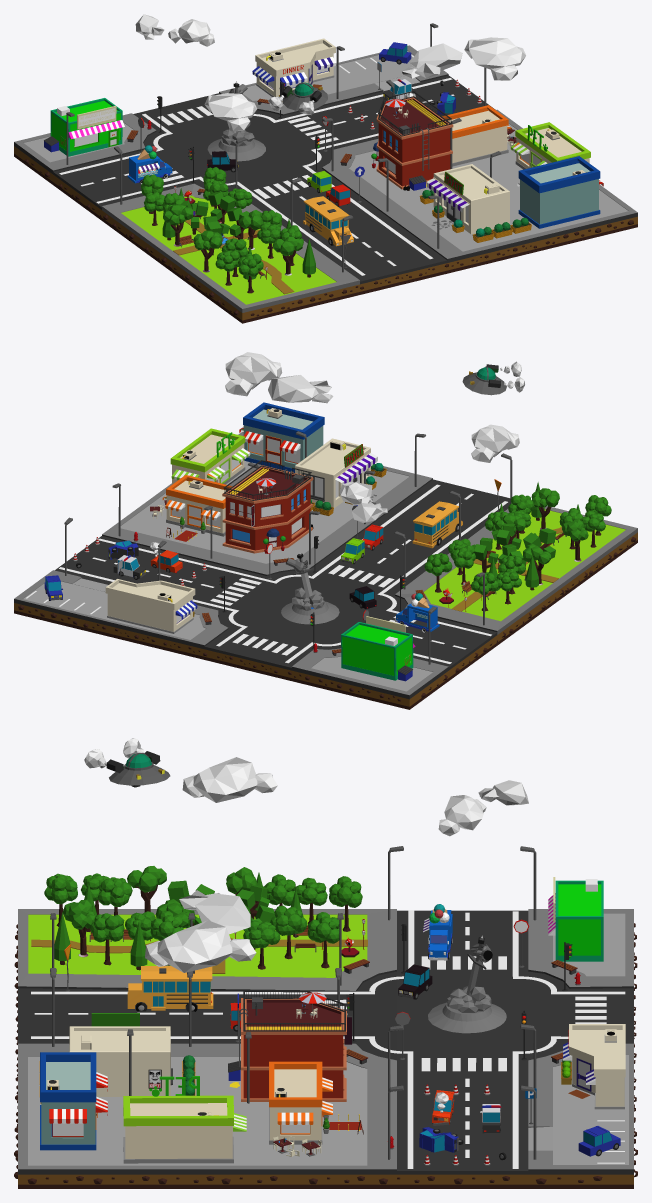
Rendered from Lowpoly_City_in_the_night.glb.
3 renders of one model, top to bottom at view 1: azimuth 30°, elevation 25°; view 2: azimuth 150°, elevation 25°; view 3: azimuth 270°, elevation 25°, orthographic. The views are drawn at different scales.
Visible parts, largest first — view 1: TERRAIN_Multicolor_0, Plane.011_Multicolor_0, Cube_Multicolor_0, Cube.019_Multicolor_0, Cube.034_Multicolor_0, Plane.010_Multicolor_0, Cube.024_Comitexture_0, Plane.008_Multicolor_0, Plane.012_Multicolor_0, Icosphere.014_Multicolor.013_0, Cube.012_Multicolor_0, Icosphere.015_Multicolor.013_0 (+17 smaller); view 2: TERRAIN_Multicolor_0, Cube_Multicolor_0, Cube.034_Multicolor_0, Plane.011_Multicolor_0, Cube.024_Comitexture_0, Cube.019_Multicolor_0, Plane.012_Multicolor_0, Plane.010_Multicolor_0, Plane.008_Multicolor_0, Cylinder.009_Multicolor_0, Icosphere.014_Multicolor.013_0, Cube.012_Multicolor_0 (+15 smaller); view 3: TERRAIN_Multicolor_0, Plane.012_Multicolor_0, Cube_Multicolor_0, Cube.019_Multicolor_0, Plane.011_Multicolor_0, Plane.010_Multicolor_0, Plane.008_Multicolor_0, Cube.034_Multicolor_0, Cube.024_Comitexture_0, Icosphere.014_Multicolor.013_0, Cylinder.009_Multicolor_0, Cube.012_Multicolor_0 (+23 smaller).
Part boxes in pixels (x1=…): TERRAIN_Multicolor_0: x1=14, y1=45, x2=637, y2=323; Plane.011_Multicolor_0: x1=517, y1=156, x2=603, y2=228; Cube_Multicolor_0: x1=376, y1=97, x2=453, y2=189; Cube.019_Multicolor_0: x1=426, y1=164, x2=509, y2=234; Cube.034_Multicolor_0: x1=252, y1=38, x2=336, y2=101; Plane.010_Multicolor_0: x1=442, y1=105, x2=511, y2=166; Cube.024_Comitexture_0: x1=50, y1=98, x2=122, y2=156; Plane.008_Multicolor_0: x1=59, y1=78, x2=452, y2=275; Plane.012_Multicolor_0: x1=511, y1=122, x2=590, y2=169; Icosphere.014_Multicolor.013_0: x1=464, y1=37, x2=525, y2=80; Cube.012_Multicolor_0: x1=303, y1=196, x2=353, y2=246; Icosphere.015_Multicolor.013_0: x1=204, y1=93, x2=256, y2=130; TERRAIN_Multicolor_0: x1=14, y1=431, x2=637, y2=709; Cube_Multicolor_0: x1=222, y1=465, x2=313, y2=553; Cube.034_Multicolor_0: x1=105, y1=579, x2=197, y2=633; Plane.011_Multicolor_0: x1=239, y1=402, x2=324, y2=472; Cube.024_Comitexture_0: x1=341, y1=616, x2=413, y2=680; Cube.019_Multicolor_0: x1=295, y1=438, x2=377, y2=508; Plane.012_Multicolor_0: x1=170, y1=428, x2=250, y2=484; Plane.010_Multicolor_0: x1=162, y1=475, x2=232, y2=541; Plane.008_Multicolor_0: x1=59, y1=484, x2=507, y2=663; Cylinder.009_Multicolor_0: x1=281, y1=553, x2=339, y2=624; Icosphere.014_Multicolor.013_0: x1=225, y1=352, x2=282, y2=396; Cube.012_Multicolor_0: x1=412, y1=501, x2=462, y2=548; TERRAIN_Multicolor_0: x1=14, y1=909, x2=637, y2=1188; Plane.012_Multicolor_0: x1=123, y1=1076, x2=246, y2=1163; Cube_Multicolor_0: x1=241, y1=998, x2=352, y2=1101; Cube.019_Multicolor_0: x1=69, y1=1013, x2=172, y2=1096; Plane.011_Multicolor_0: x1=40, y1=1052, x2=107, y2=1150; Plane.010_Multicolor_0: x1=269, y1=1061, x2=361, y2=1144; Plane.008_Multicolor_0: x1=31, y1=910, x2=625, y2=1168; Cube.034_Multicolor_0: x1=561, y1=1024, x2=625, y2=1109; Cube.024_Comitexture_0: x1=553, y1=877, x2=603, y2=961; Icosphere.014_Multicolor.013_0: x1=145, y1=920, x2=256, y2=972; Cylinder.009_Multicolor_0: x1=428, y1=937, x2=506, y2=1033; Cube.012_Multicolor_0: x1=127, y1=966, x2=213, y2=1010.
Size of the model in its own units: 6299 by 2734 by 6298.
11 materials, 8 textured.
